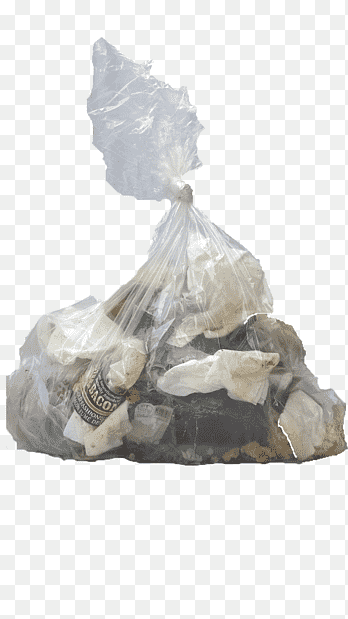plastic_bagwdw: (5, 25, 348, 538)
